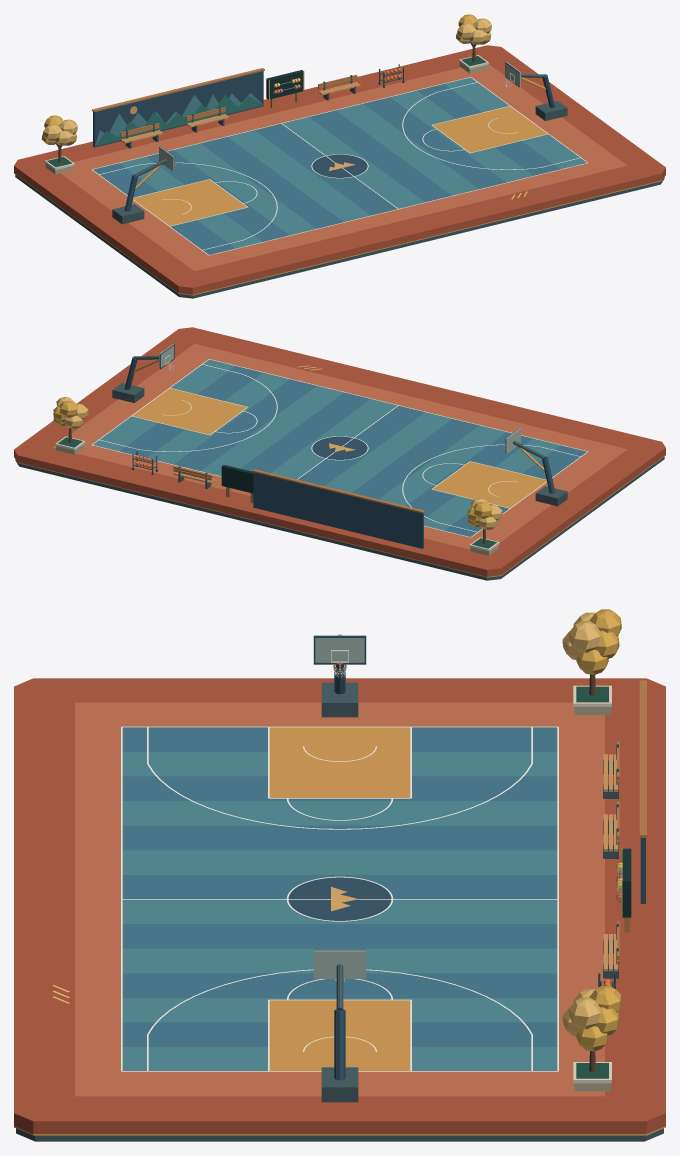
Rendered from basketball.glb.
The picture shows the model from 3 angles, top to bottom: view 1: azimuth 30°, elevation 25°; view 2: azimuth 150°, elevation 25°; view 3: azimuth 270°, elevation 25°; orthographic projection. The views are drawn at different scales.
Parts seen in each view (by area): view 1: SM_BK_Court, SM_BK_Ground, SM_BK_Sideline, SM_BK_Baskets; view 2: SM_BK_Court, SM_BK_Ground, SM_BK_Sideline, SM_BK_Baskets; view 3: SM_BK_Court, SM_BK_Ground, SM_BK_Sideline, SM_BK_Baskets.
Boxes of the visible parts, <box> form: SM_BK_Court: <box>61,64,626,271</box>; SM_BK_Ground: <box>14,45,665,298</box>; SM_BK_Sideline: <box>41,14,491,174</box>; SM_BK_Baskets: <box>112,62,567,224</box>; SM_BK_Court: <box>52,343,626,549</box>; SM_BK_Ground: <box>14,327,665,580</box>; SM_BK_Sideline: <box>53,397,502,555</box>; SM_BK_Baskets: <box>112,344,567,506</box>; SM_BK_Court: <box>52,702,604,1096</box>; SM_BK_Ground: <box>14,678,665,1141</box>; SM_BK_Sideline: <box>562,609,646,1091</box>; SM_BK_Baskets: <box>313,634,366,1102</box>.
Bounding box in the file's own units: 36 × 4.85 × 22.4.
Materials: 1 (1 with a texture image).
